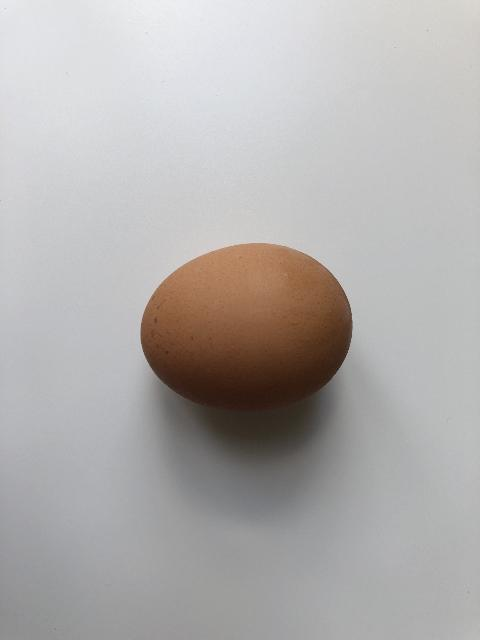Sano: (139, 241, 353, 412)
